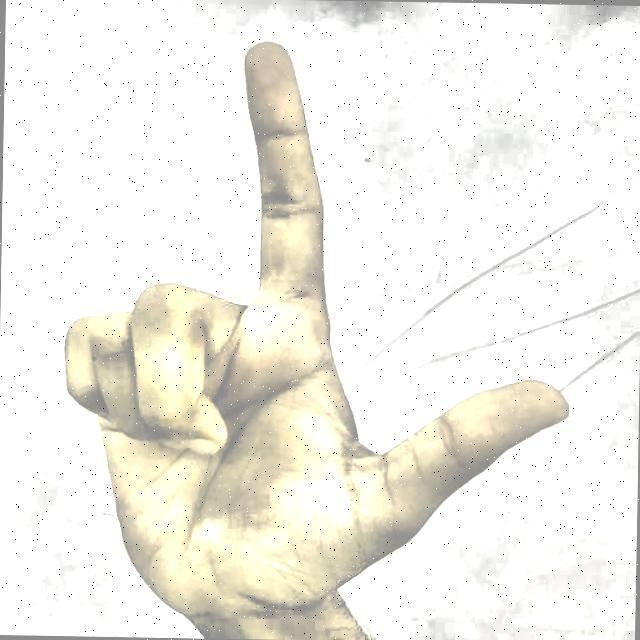La: (24, 21, 587, 640)
